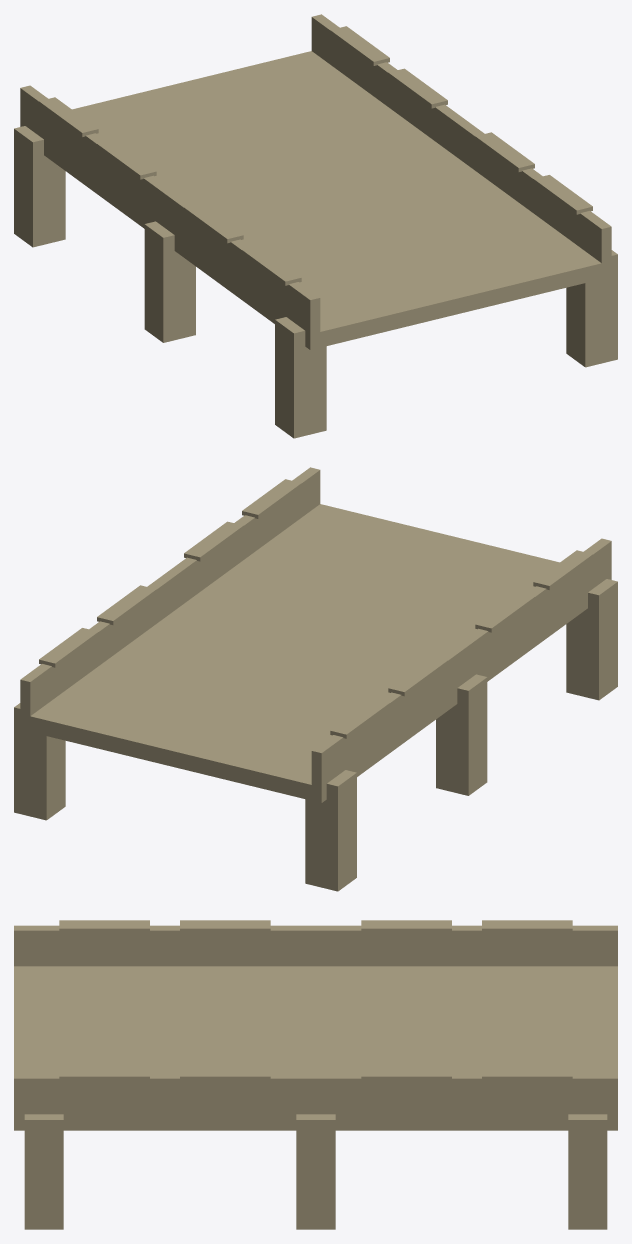
Rendered from coastal_bridge.glb.
3 views of the same model, one above another, from view 1: azimuth 30°, elevation 25°; view 2: azimuth 150°, elevation 25°; view 3: azimuth 270°, elevation 25° (orthographic). The views are drawn at different scales.
Parts seen in each view (by area): view 1: bridge deck, parapet.001, parapet, pier.002, pier.001, pier, pier.005, capstone.004, capstone.001, capstone, capstone.003, capstone.005 (+3 smaller); view 2: bridge deck, parapet.001, parapet, pier, pier.001, pier.002, pier.003, capstone.007, capstone.002, capstone, capstone.003, capstone.006 (+3 smaller); view 3: bridge deck, parapet, parapet.001, pier.003, pier.004, pier.005, capstone.004, capstone.005, capstone.006, capstone.007, capstone, capstone.001 (+2 smaller).
Part boxes in pixels (x1,y1,x2,y2): bridge deck: [20, 51, 611, 349]; parapet.001: [311, 14, 611, 263]; parapet: [20, 85, 320, 334]; pier.002: [275, 317, 326, 438]; pier.001: [144, 221, 195, 342]; pier: [14, 126, 65, 247]; pier.005: [566, 246, 617, 367]; capstone.004: [330, 26, 389, 65]; capstone.001: [97, 140, 156, 179]; capstone: [39, 97, 98, 136]; capstone.003: [242, 246, 301, 285]; capstone.005: [388, 68, 447, 108]; bridge deck: [20, 504, 611, 802]; parapet.001: [20, 467, 320, 716]; parapet: [311, 538, 611, 787]; pier: [305, 770, 356, 891]; pier.001: [436, 674, 487, 795]; pier.002: [566, 579, 617, 700]; pier.003: [14, 699, 65, 820]; capstone.007: [242, 479, 301, 518]; capstone.002: [475, 593, 534, 632]; capstone: [330, 699, 389, 738]; capstone.003: [533, 550, 592, 589]; capstone.006: [184, 521, 243, 561]; bridge deck: [14, 966, 617, 1130]; parapet: [14, 925, 617, 966]; parapet.001: [14, 1073, 617, 1114]; pier.003: [568, 1114, 607, 1229]; pier.004: [296, 1114, 335, 1229]; pier.005: [24, 1114, 63, 1229]; capstone.004: [482, 1068, 572, 1081]; capstone.005: [361, 1068, 451, 1081]; capstone.006: [180, 1068, 270, 1081]; capstone.007: [59, 1068, 149, 1081]; capstone: [482, 920, 572, 932]; capstone.001: [361, 920, 451, 932].
Bounding box in the file's own units: 12.9 × 5.43 × 20.
